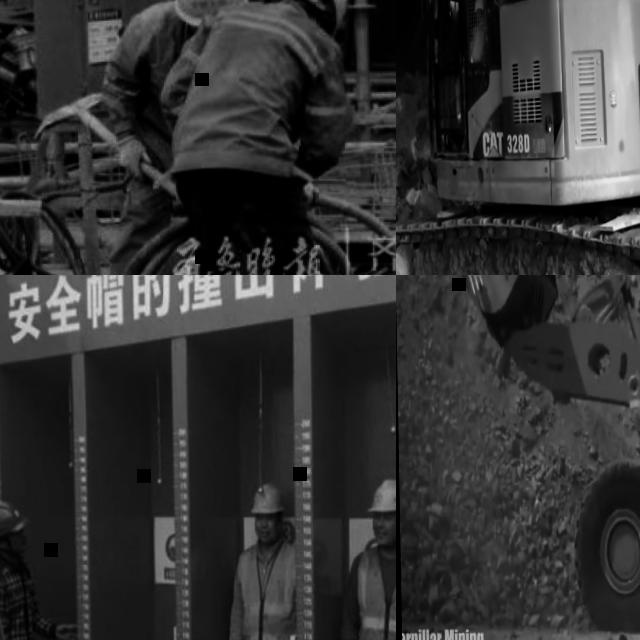Hardhat: (266, 0, 349, 25), (170, 0, 251, 24), (251, 484, 286, 514), (369, 477, 396, 511), (473, 0, 485, 11)
NO-Hardhat: (0, 500, 29, 538)
NO-Mask: (0, 534, 29, 553), (256, 522, 280, 543), (374, 520, 396, 542)
NO-Safety Vest: (0, 564, 37, 640)
Person: (157, 0, 364, 275), (105, 0, 269, 275), (227, 483, 302, 640), (0, 495, 81, 640), (339, 474, 396, 640), (443, 0, 490, 150)
Safety Vest: (172, 0, 334, 175), (119, 5, 197, 161), (236, 541, 299, 640), (354, 544, 396, 640), (468, 21, 487, 63)
machinery: (447, 275, 640, 640), (396, 0, 640, 275)
